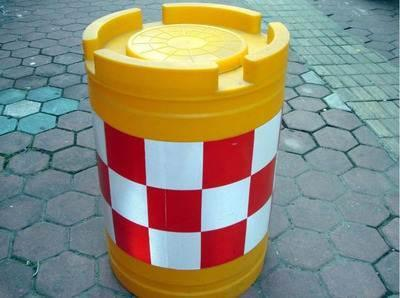sign: (75, 2, 281, 298)
